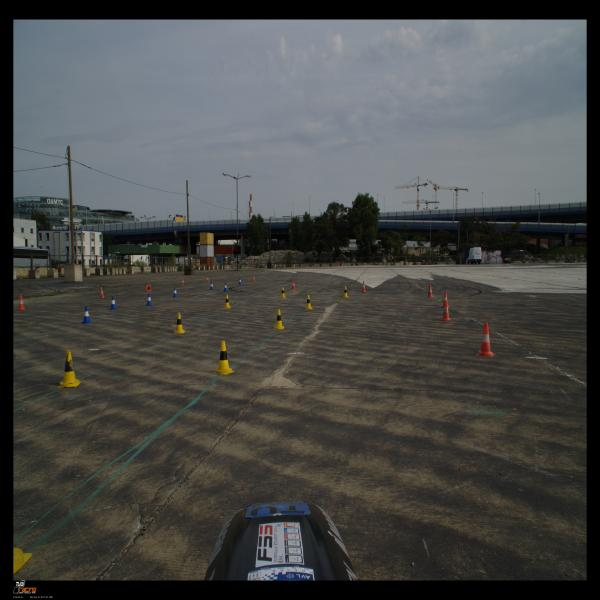blue_cone: (82, 306, 92, 324), (109, 296, 118, 310), (146, 294, 153, 306), (172, 288, 179, 298), (223, 283, 228, 291), (210, 282, 214, 290), (238, 278, 242, 284)
orange_cone: (476, 323, 496, 356), (441, 300, 450, 321), (442, 291, 450, 308), (17, 296, 26, 310), (426, 284, 434, 298), (290, 280, 296, 290), (100, 287, 105, 299), (361, 281, 366, 292), (146, 285, 151, 291), (252, 275, 256, 282), (206, 276, 209, 283), (181, 278, 184, 285)
yellow_cone: (57, 350, 82, 388), (213, 341, 235, 375), (13, 547, 32, 575), (273, 309, 286, 329), (174, 313, 185, 333), (304, 295, 313, 310), (223, 294, 231, 308), (342, 286, 349, 298), (280, 287, 286, 298)
